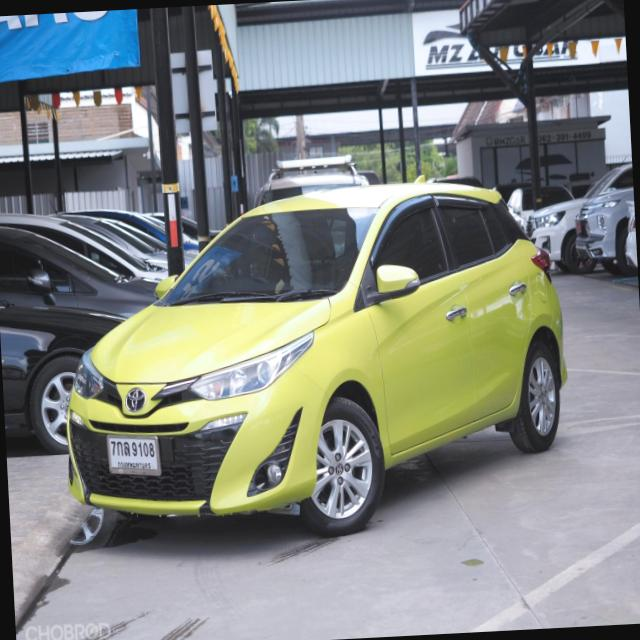license_plate: (102, 424, 168, 486)
